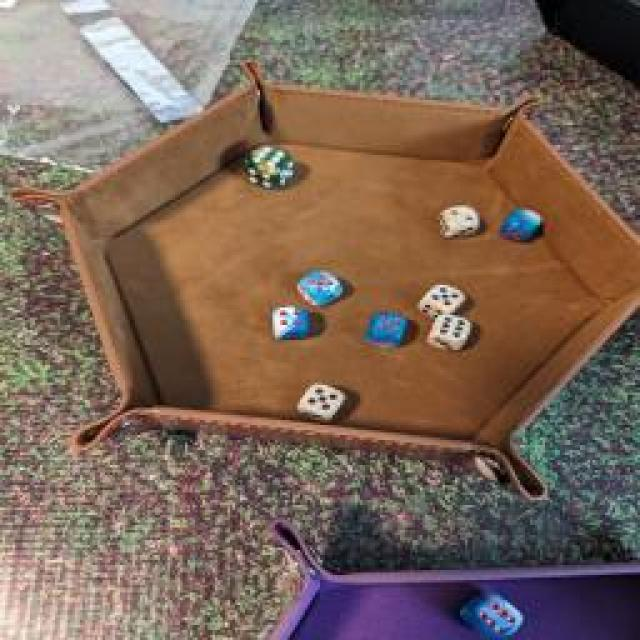dice_1: (494, 205, 546, 243)
dice_2: (434, 201, 481, 239)
dice_4: (266, 302, 316, 342)
dice_5: (292, 376, 342, 422), (414, 280, 466, 320), (362, 308, 410, 350), (293, 270, 345, 305)
dice_6: (456, 585, 529, 640), (242, 142, 300, 188), (425, 312, 475, 352)
